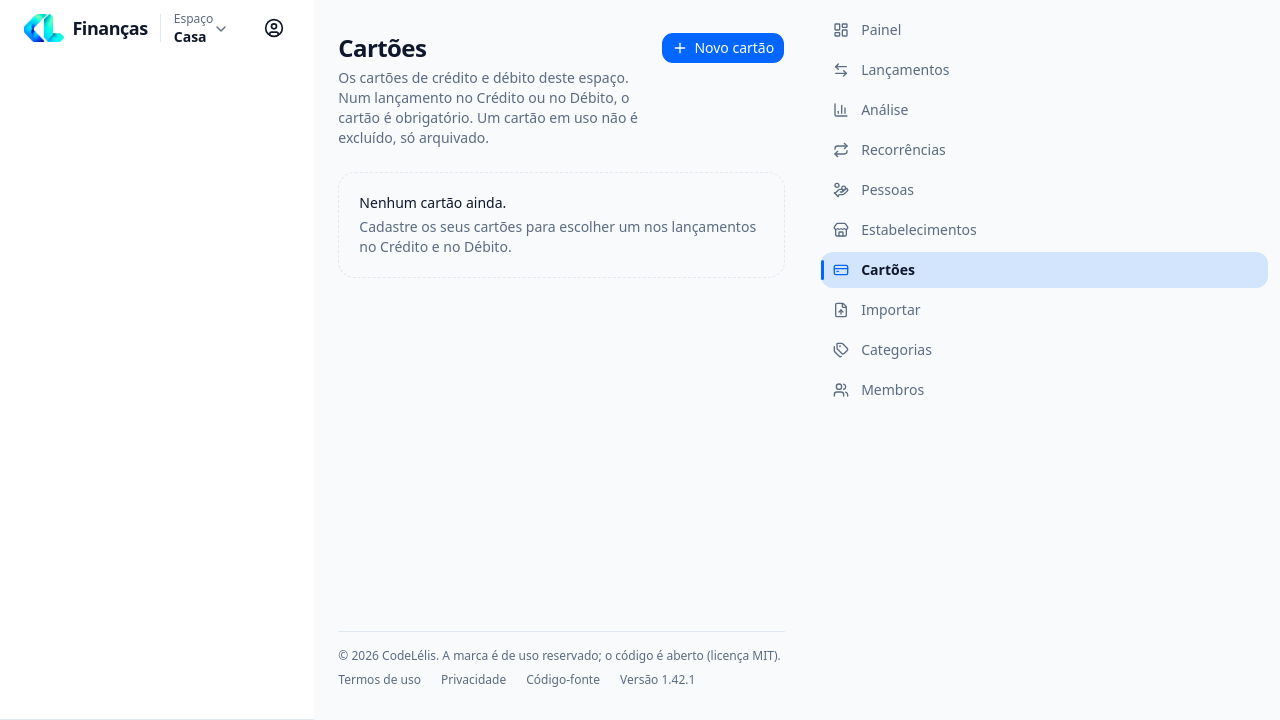
it: CardsPage › offers the first card the transactions with no card, both groups checked (ADR 0062 note)
Expected: the text "Nenhum cartão ainda." is shown, top-left (359, 193), bottom-right (506, 212)
Step 1. Click the button "Novo cartão" → (723, 48), box top-left (661, 32), bottom-right (785, 64)
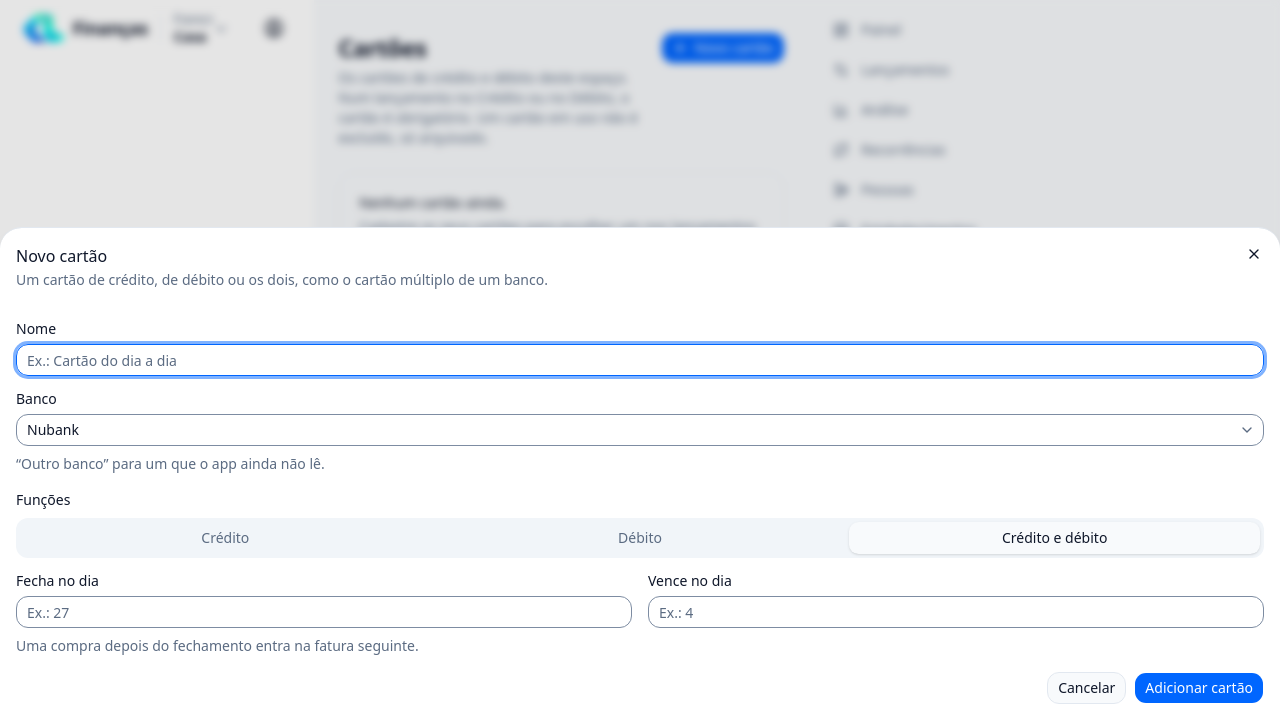
Step 2. Type "Cartão Novo" into the field labelled "Nome" → (640, 360), box top-left (16, 344), bottom-right (1264, 376)
Step 3. Type "27" into the field labelled "Fecha no dia" → (324, 612), box top-left (16, 596), bottom-right (632, 628)
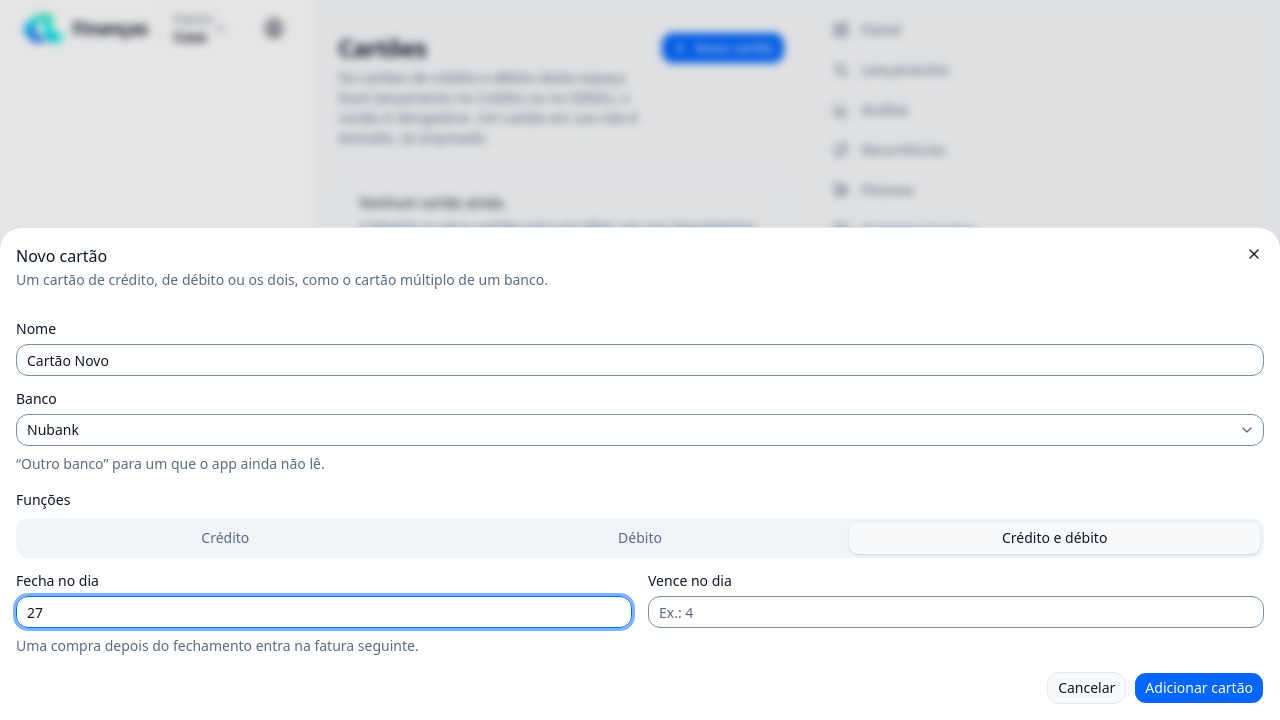
Step 4. Type "4" into the field labelled "Vence no dia" → (956, 612), box top-left (648, 596), bottom-right (1264, 628)
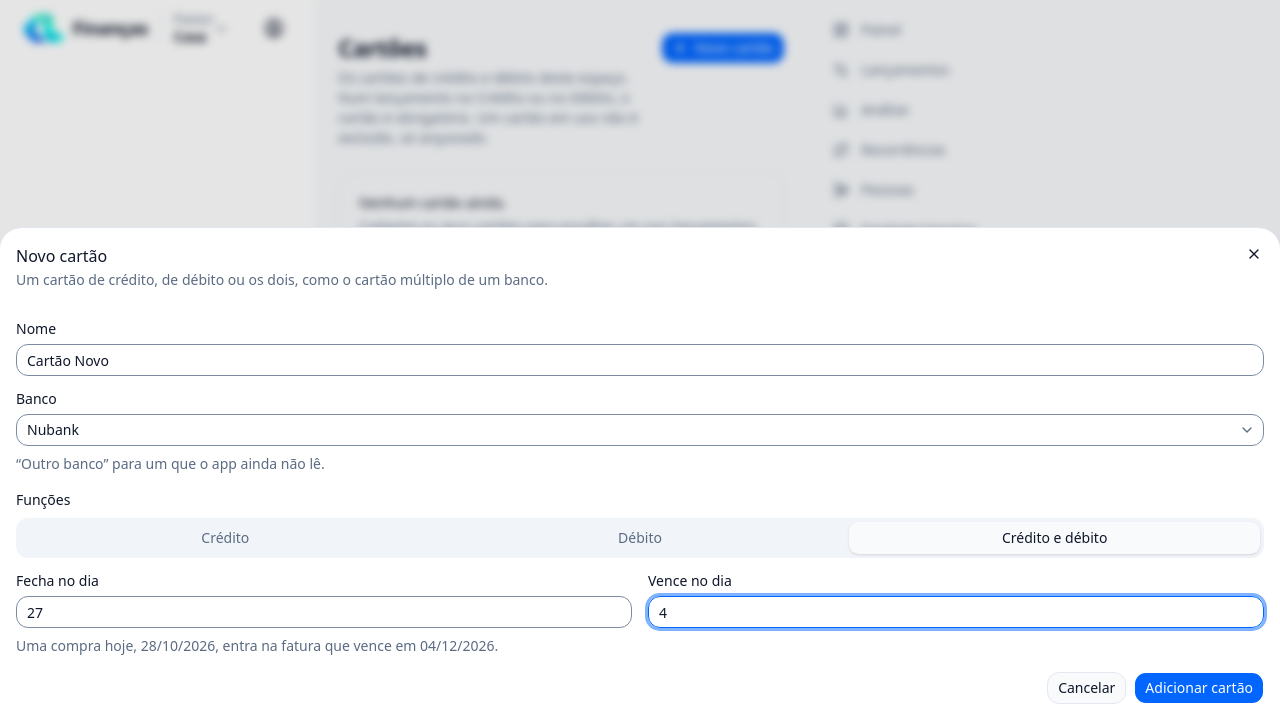
Step 5. Click the button "Adicionar cartão" → (1199, 688), box top-left (1134, 672), bottom-right (1264, 704)
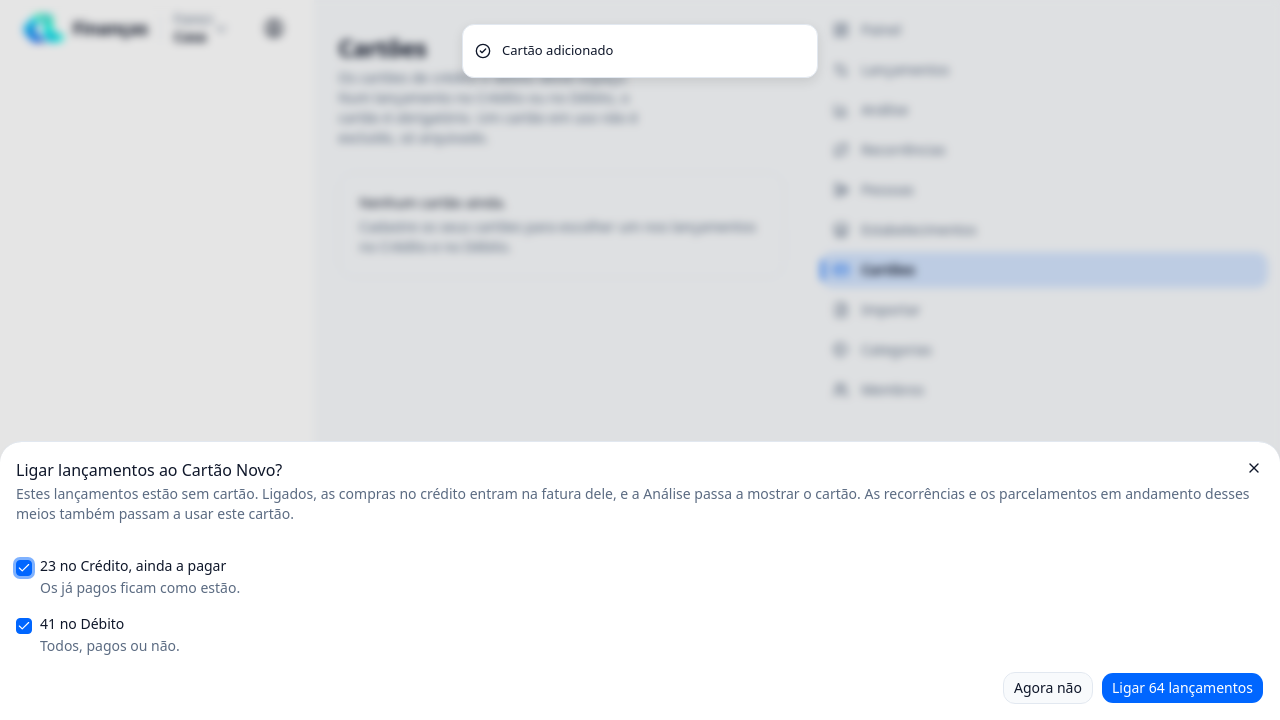
Now the checkbox named "23 no Crédito, ainda a pagar" next to "23 no Crédito, ainda a pagar" is checked, box top-left (16, 560), bottom-right (32, 576)
Now the checkbox named "41 no Débito" next to "41 no Débito" is checked
Step 6. Click the checkbox named "41 no Débito" next to "41 no Débito" → (24, 626), box top-left (16, 618), bottom-right (32, 634)
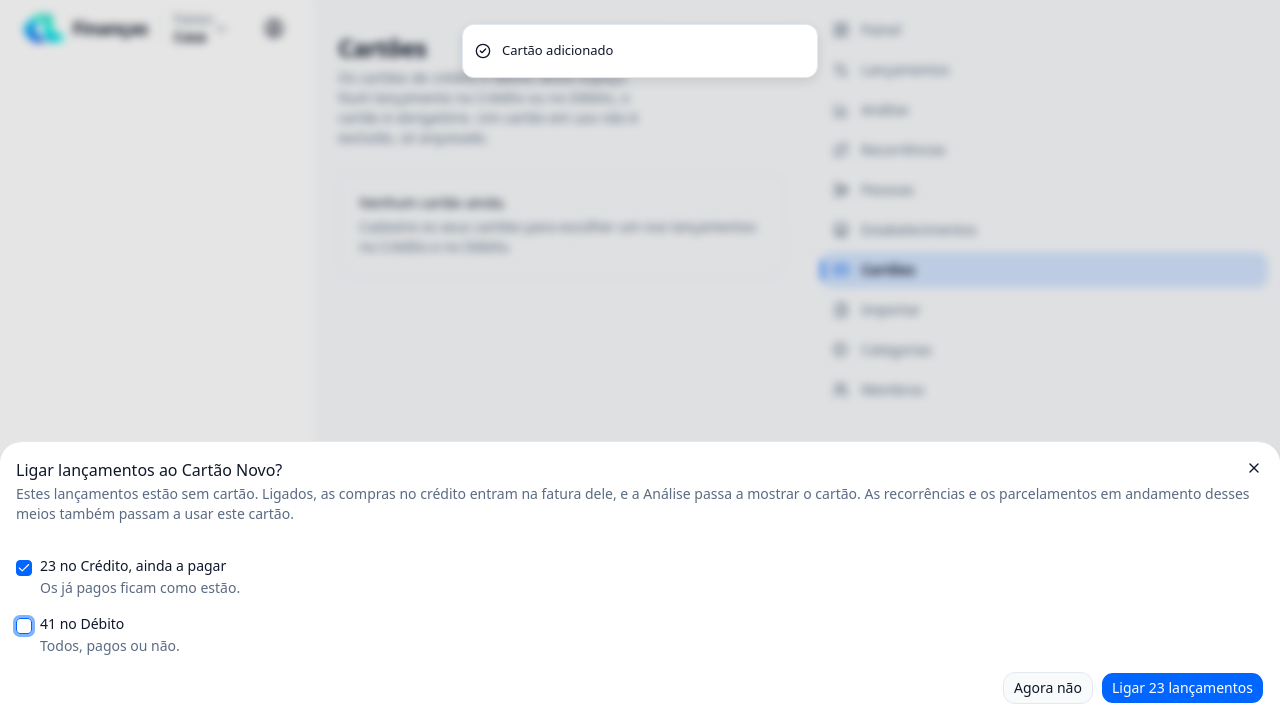
Step 7. Click the button "Ligar 23 lançamentos" → (1182, 688), box top-left (1101, 672), bottom-right (1264, 704)
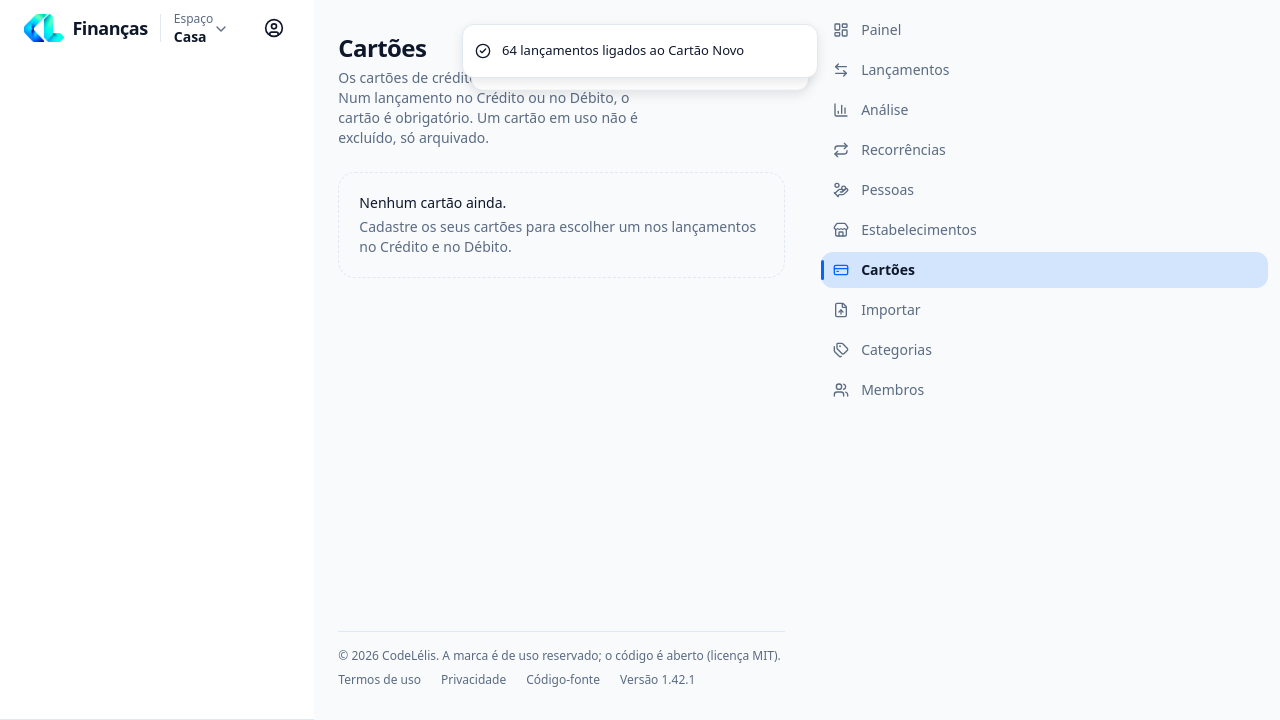
Now the text "64 lançamentos ligados ao Cartão Novo" is shown, box top-left (502, 41), bottom-right (744, 60)
